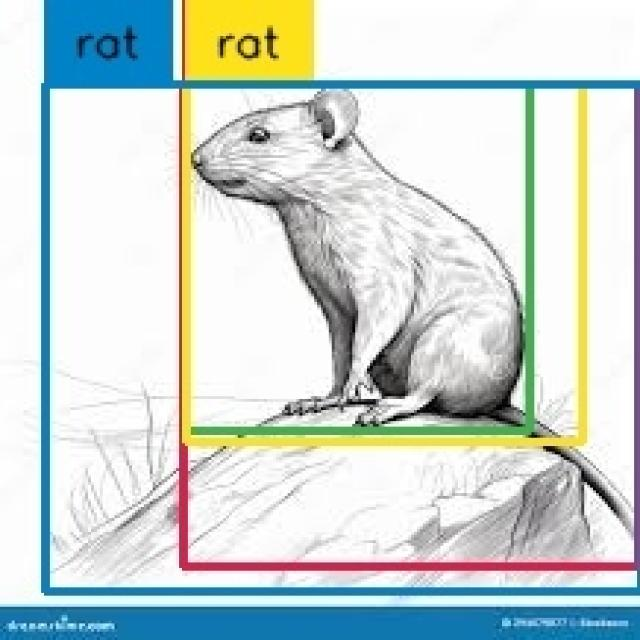rat: (44, 83, 640, 593), (185, 84, 640, 566), (186, 83, 583, 443), (186, 84, 530, 431)
